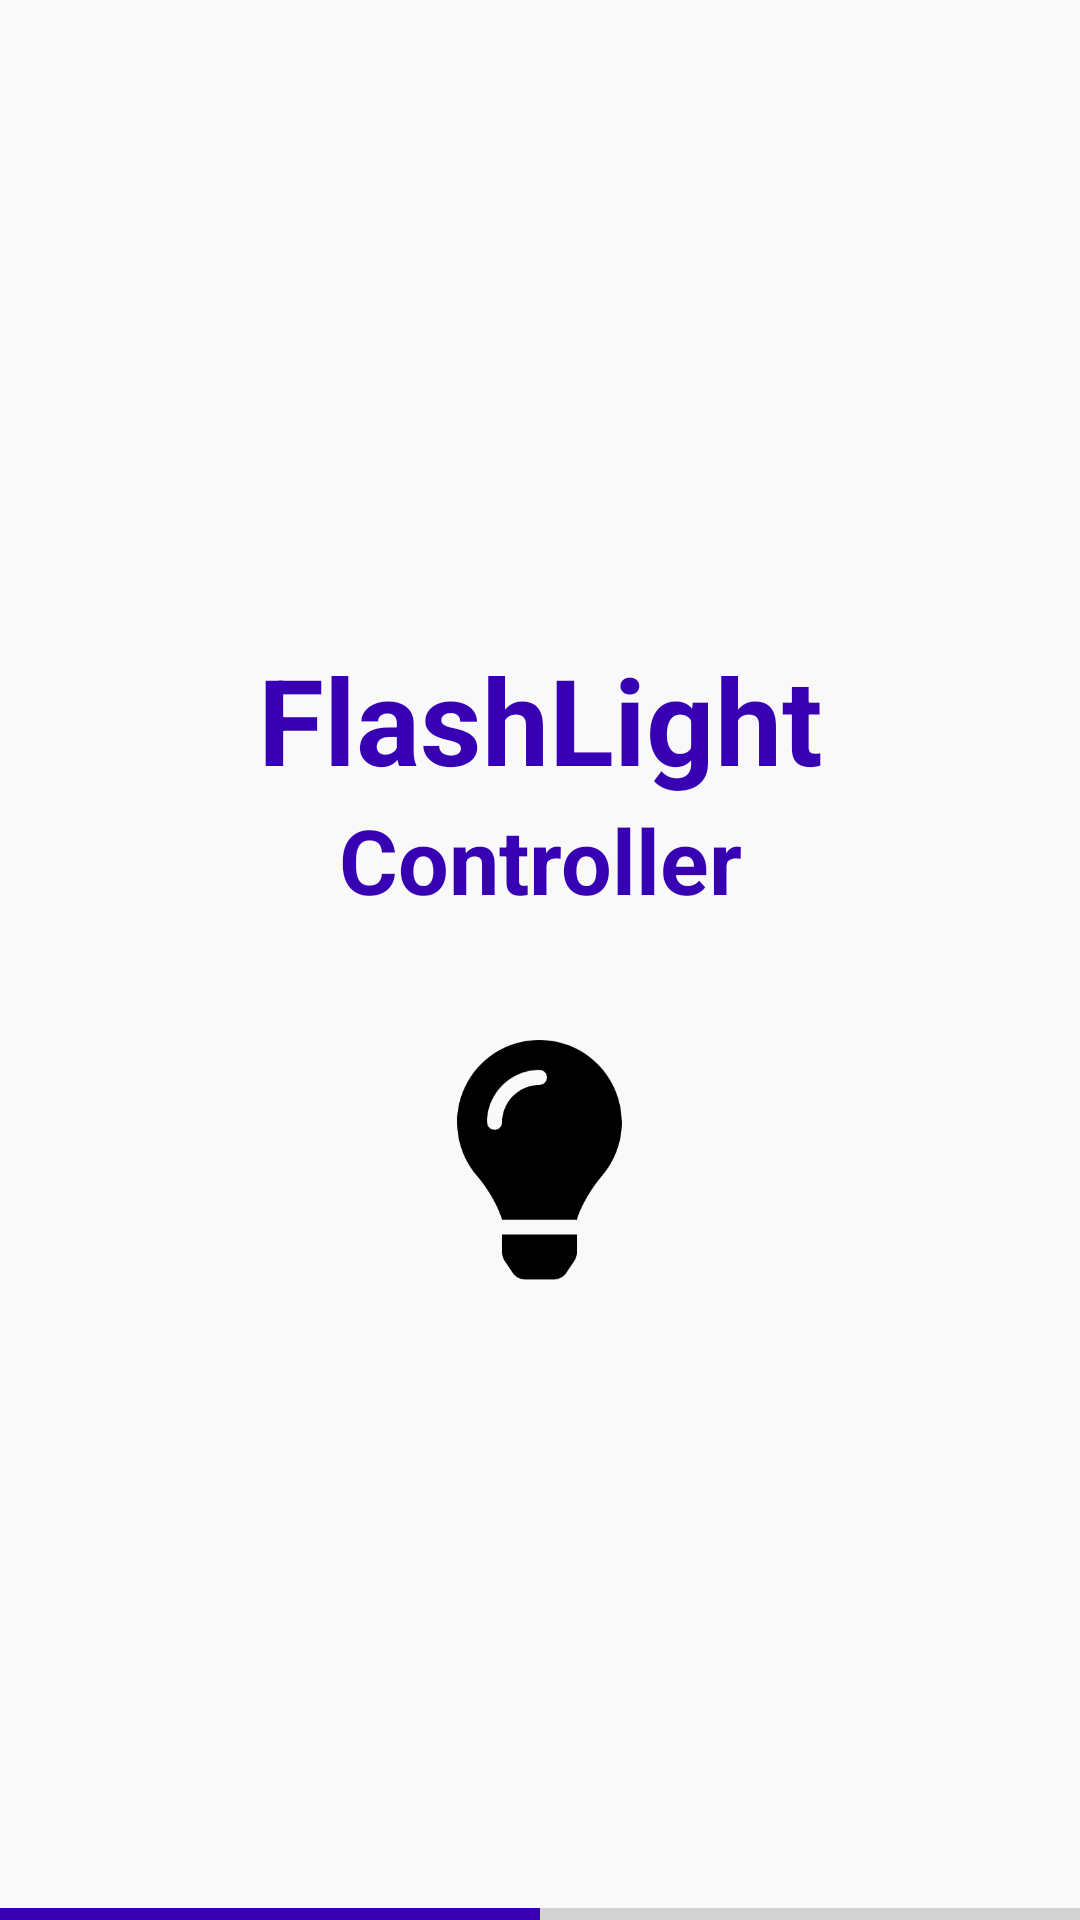

Locate icon controls on the screen. Image size 1080px×1920px, boxes as Rect(x1, y1, x2, y2).
flash off: Rect(457, 1040, 622, 1280)
